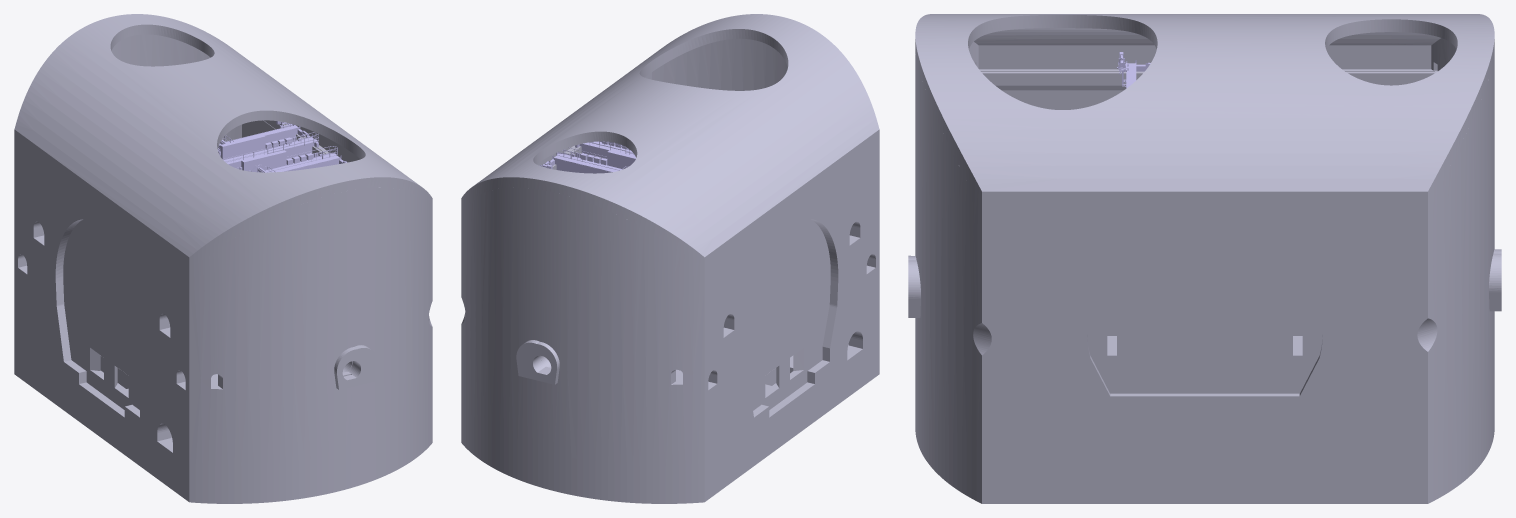
The picture shows the model from 3 angles, left to right: view 1: azimuth 30°, elevation 25°; view 2: azimuth 150°, elevation 25°; view 3: azimuth 270°, elevation 25°; orthographic projection. The views are drawn at different scales.
Parts seen in each view (by area): view 1: null; view 2: null; view 3: null.
Part boxes in pixels (x1,y1,x2,y2): null: (14,14,432,503); null: (461,14,879,503); null: (908,14,1501,503).
Bounding box in the file's own units: 34 × 41.2 × 56.3.
